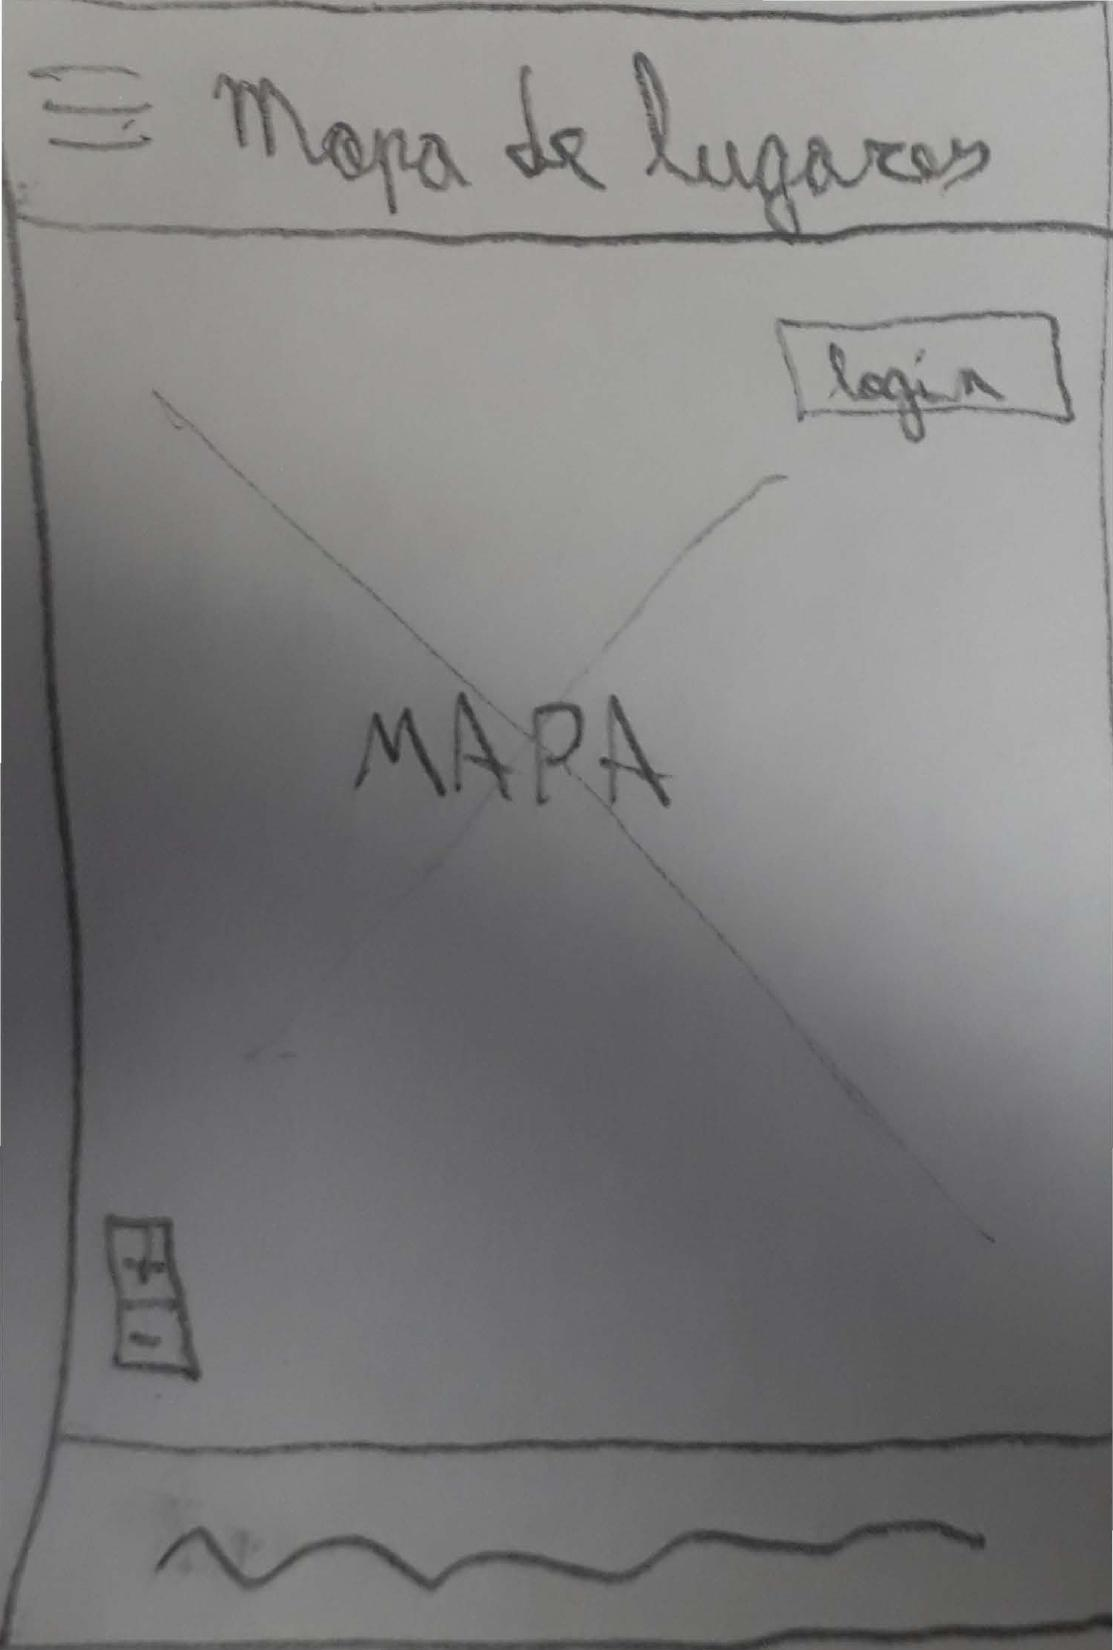Button: (775, 313, 1077, 427), (31, 60, 157, 154)
Label: (215, 57, 996, 200), (149, 1510, 991, 1595)
Map: (47, 395, 1112, 1247)
Screen: (1, 1, 1112, 1646)
